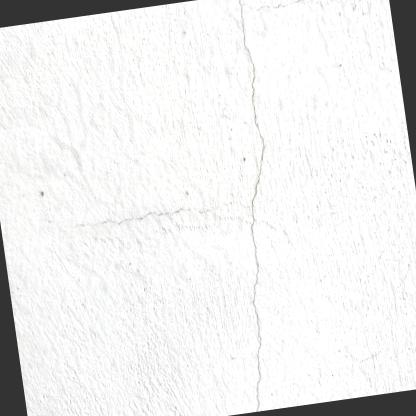crack: (239, 0, 264, 411)
